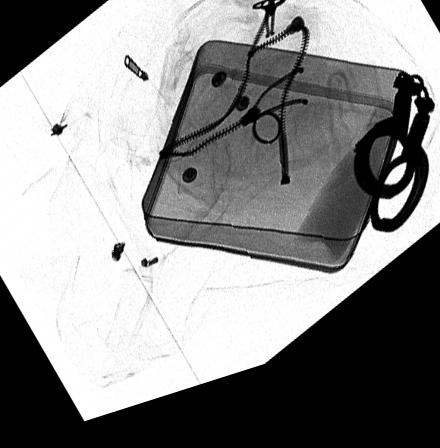HandCuffs: (351, 95, 434, 257)
